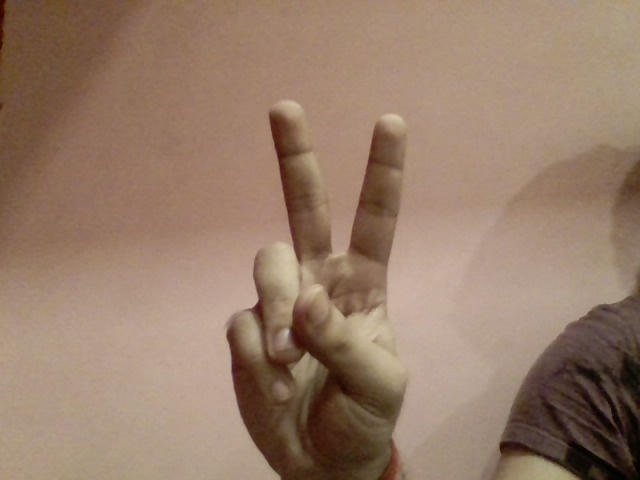v: (209, 90, 439, 461)
